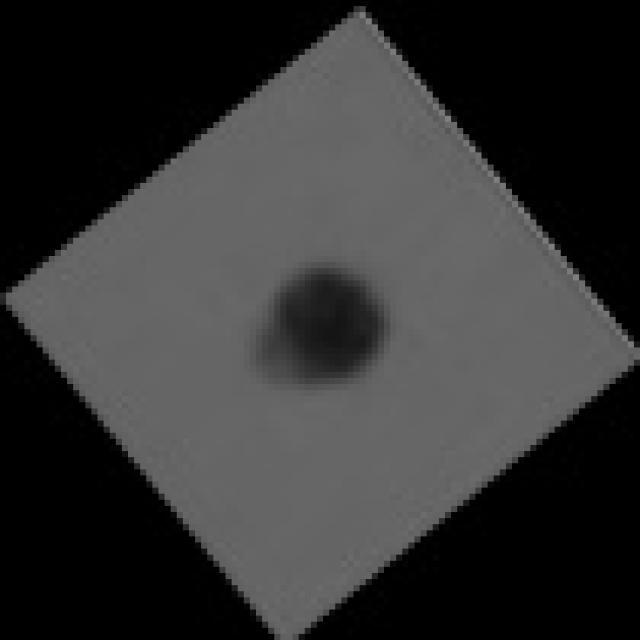Defect2: (226, 234, 412, 422)
